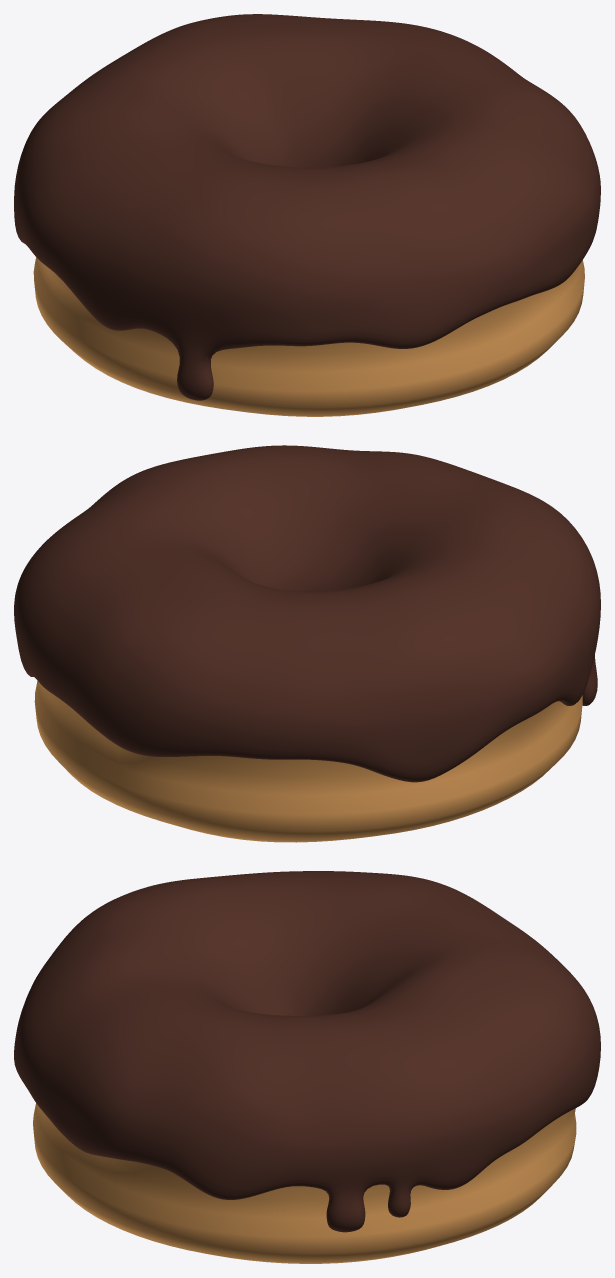
Rendered from donut.fbx.
3 views of the same model, one above another, from view 1: azimuth 30°, elevation 25°; view 2: azimuth 150°, elevation 25°; view 3: azimuth 270°, elevation 25° (orthographic).
Visible parts, largest first — view 1: Icing, Donut; view 2: Icing, Donut; view 3: Icing, Donut.
Part boxes in pixels (x1,y1,x2,y2): Icing: [14, 14, 600, 400]; Donut: [33, 257, 584, 416]; Icing: [14, 445, 600, 782]; Donut: [34, 680, 582, 842]; Icing: [14, 871, 600, 1232]; Donut: [33, 1103, 576, 1263].
Size of the model in its own units: 300 by 132 by 307.
